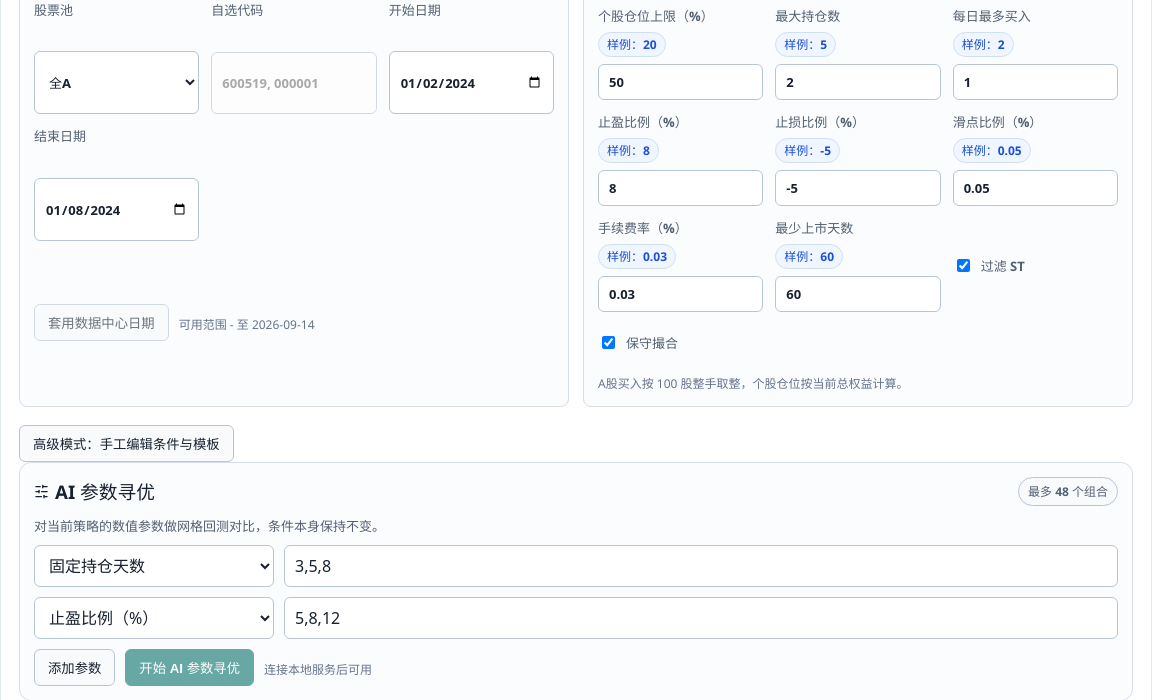
Scenario: shows structured entry and exit writing templates for condition help
(page scrolled)
手工编辑器默认收起：先展开高级模式，再断言模板仍在其中。
Click the button "高级模式：手工编辑条件与模板".
click(126, 444)  # box 19,425 -> 234,462
(page scrolled)
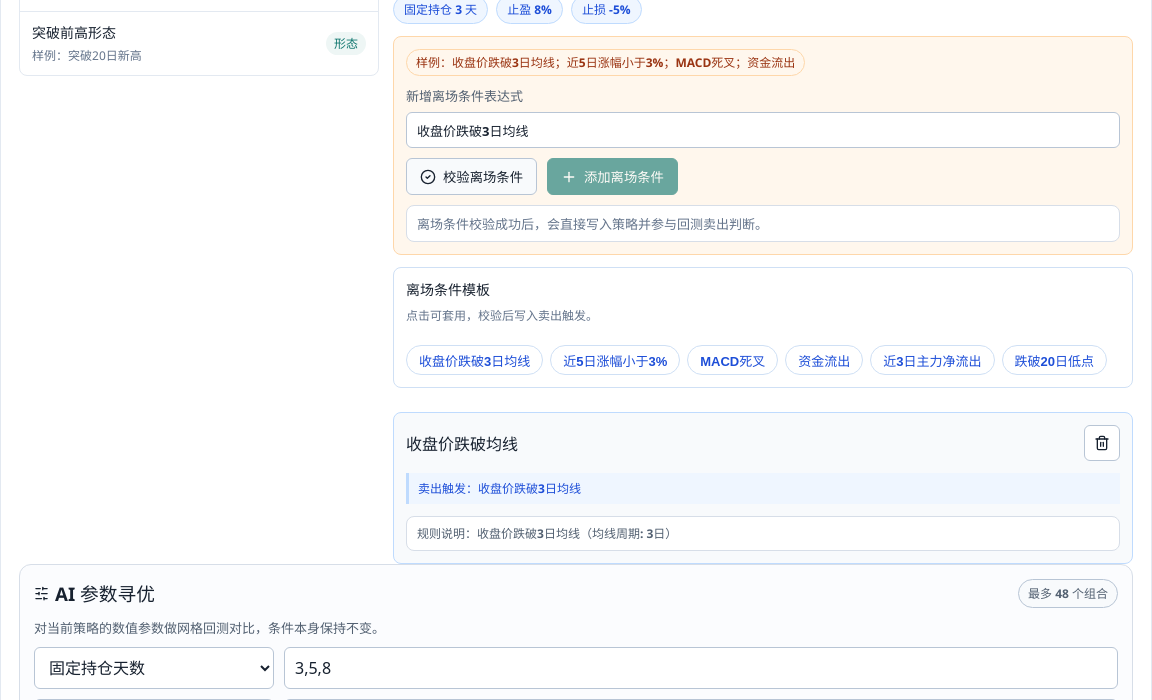
Expected: the heading "离场条件模板" is shown, 406,281 -> 490,300
Expected: the button with aria-label "套用离场条件：跌破20日低点" is shown, 1002,345 -> 1107,375
